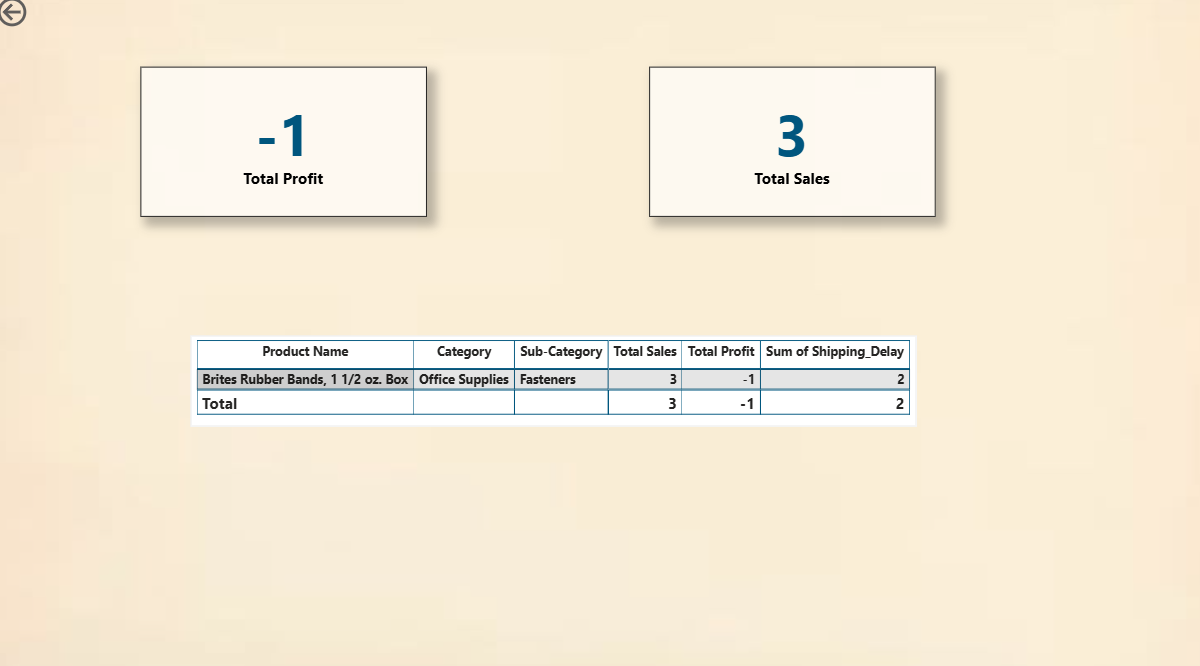

Layout of this report page (visuals, bound fields, positions):
{"tool":"powerbi","page":{"name":"Product Details","canvas":[1280,720],"ordinal":2},"visuals":[{"type":"actionButton","box":[0,0,100,40],"z":0},{"type":"card","fields":{"Values":["Orders.Total Profit"]},"box":[154.9,77.5,300.7,157.6],"z":1},{"type":"card","fields":{"Values":["Orders.Total Sales"]},"box":[689.4,77.5,300.7,157.6],"z":2},{"type":"tableEx","fields":{"Values":["Orders.Product Name","Orders.Category","Orders.Sub-Category","Orders.Total Sales","Orders.Total Profit","Sum(Orders.Shipping_Delay)"]},"box":[207.5,359.8,762.9,95.9],"z":3}]}

Visuals, with their boxes in screenshot pixels (x1, y1, x2, y2), scaled from the page's 1280x720 canvas onto the 1200x666 screenshot:
actionButton: (0, 0, 94, 37)
card - Orders.Total Profit: (145, 72, 427, 217)
card - Orders.Total Sales: (646, 72, 928, 217)
tableEx - Orders.Product Name x Orders.Category: (195, 333, 910, 422)
